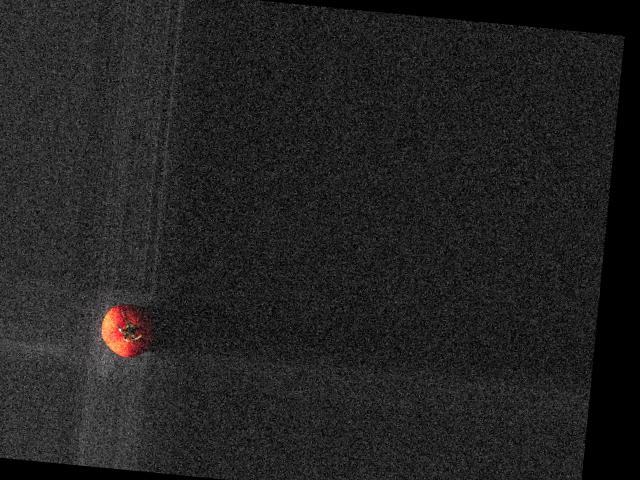tomato: (99, 302, 157, 359)
